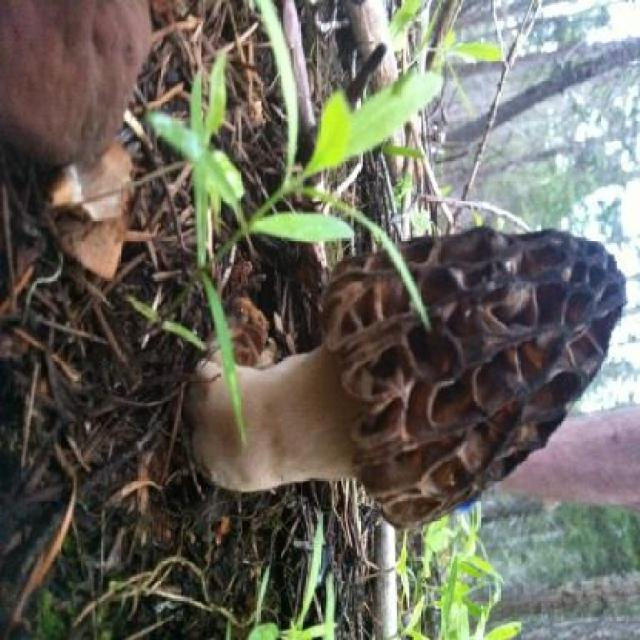Mushroom: (168, 213, 606, 542)
